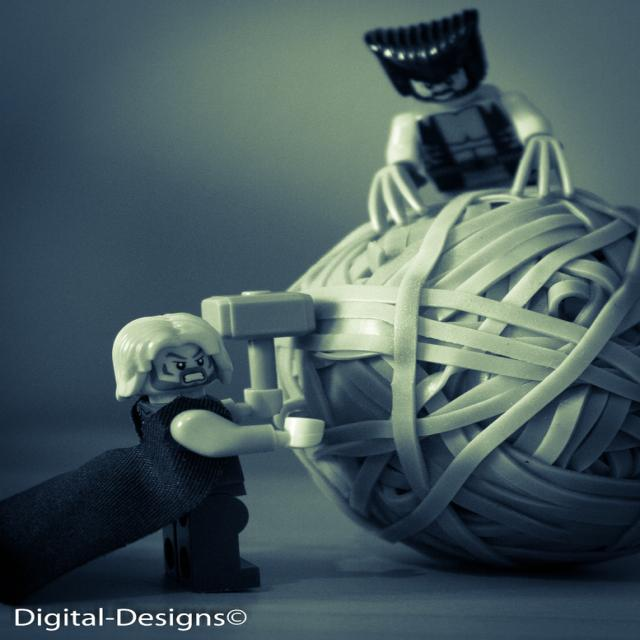Toy: (33, 305, 296, 597), (360, 11, 572, 239)
